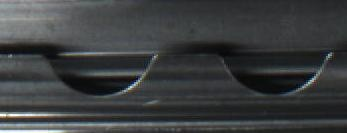twou: (47, 45, 307, 107)
